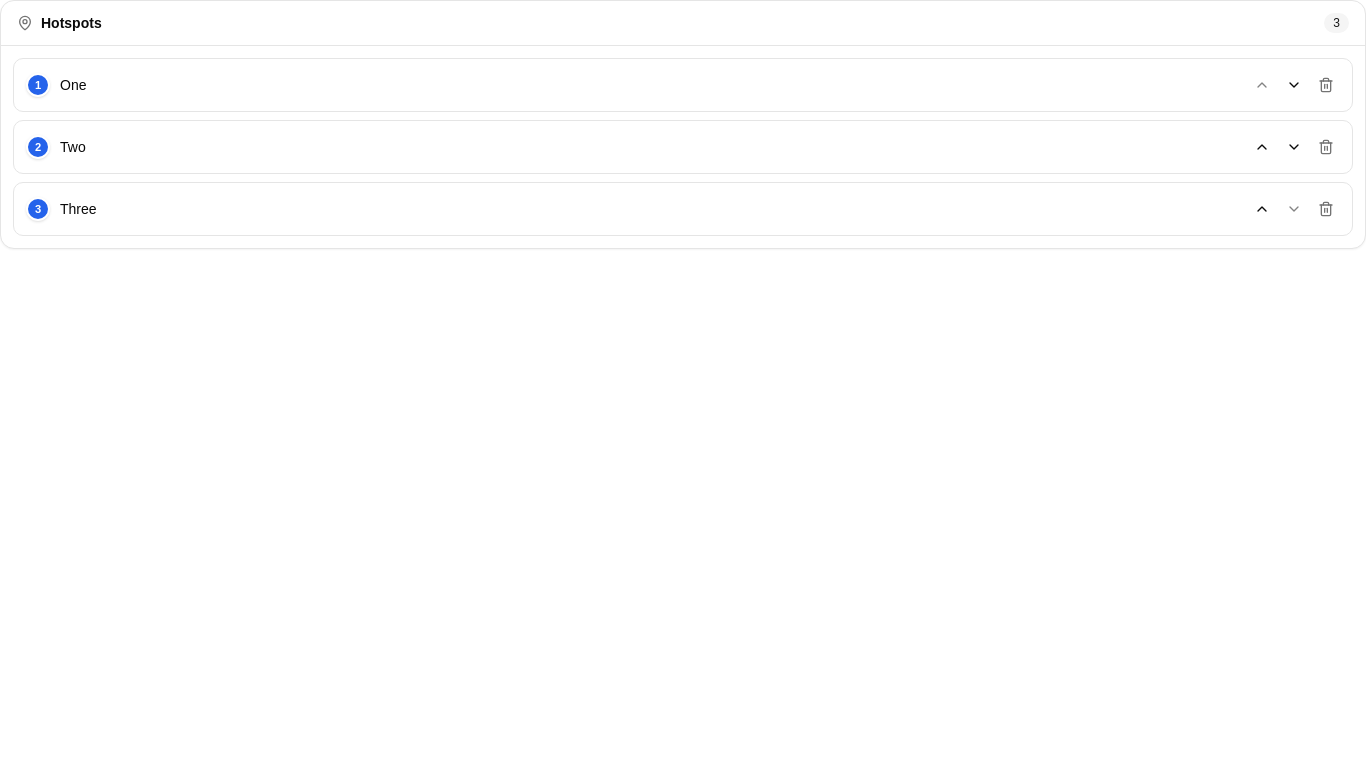
it: HotspotInspector › accepts and canonicalizes only six-digit hex colors
Click the button "One" at (73, 85), box [54,71,1244,99]
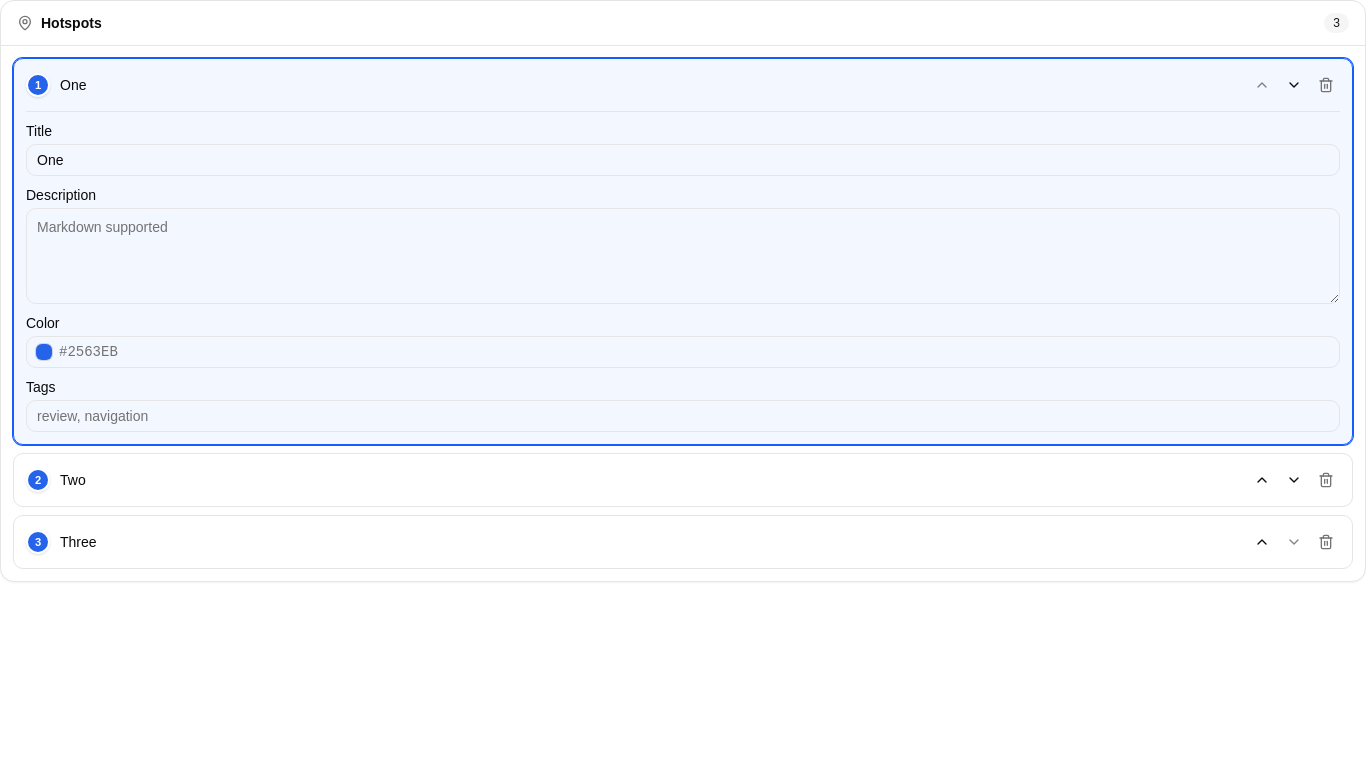
Type "#a1b2c3" into the field labelled "Color" at (683, 352), box [26,336,1340,368]
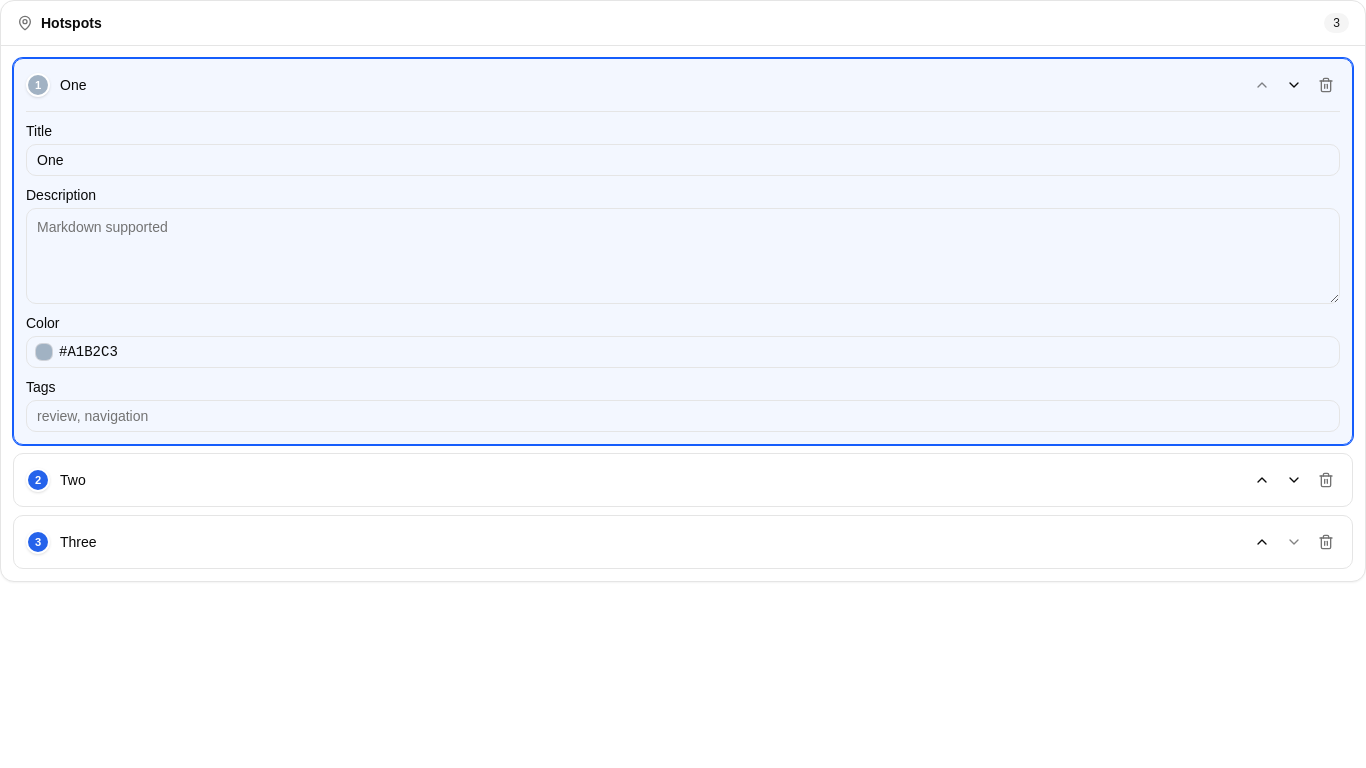
Replace the text in the field labelled "Color" with "red" at (683, 352), box [26,336,1340,368]
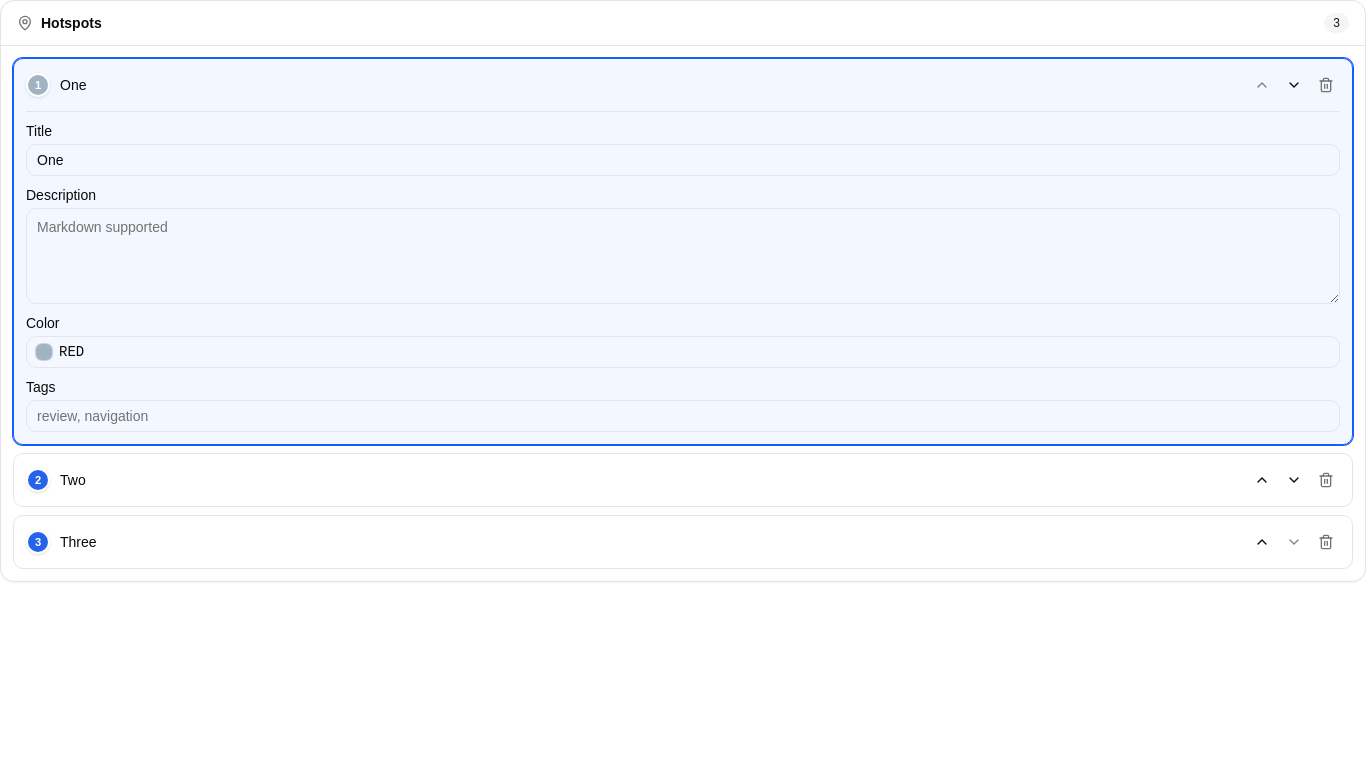
Leave the field labelled "Color", box [26,336,1340,368]
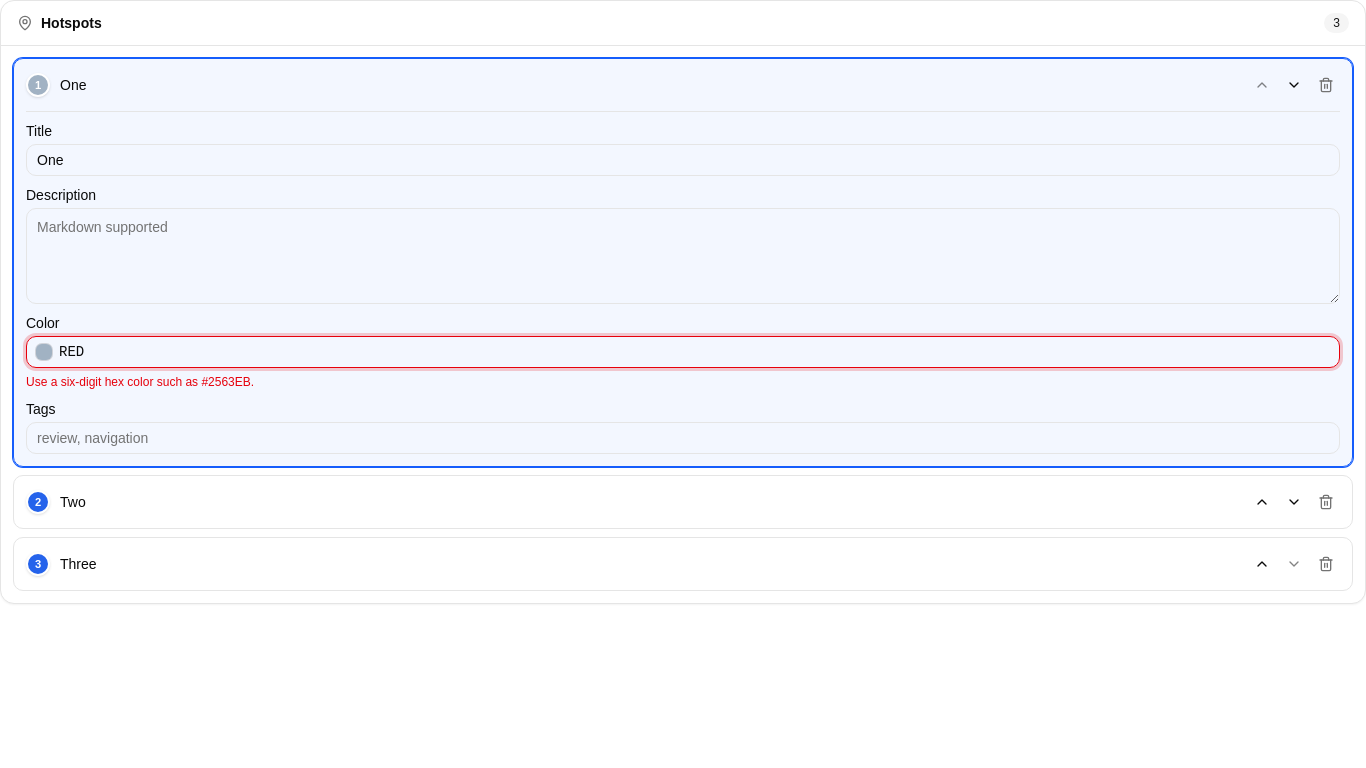
Expected: the message shows "six-digit hex color", [26,375,254,389]
